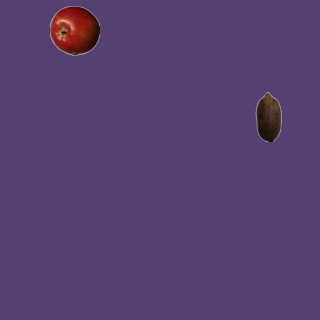Apple Braeburn: (49, 5, 99, 55)
Nut Pecan: (243, 91, 293, 141)
